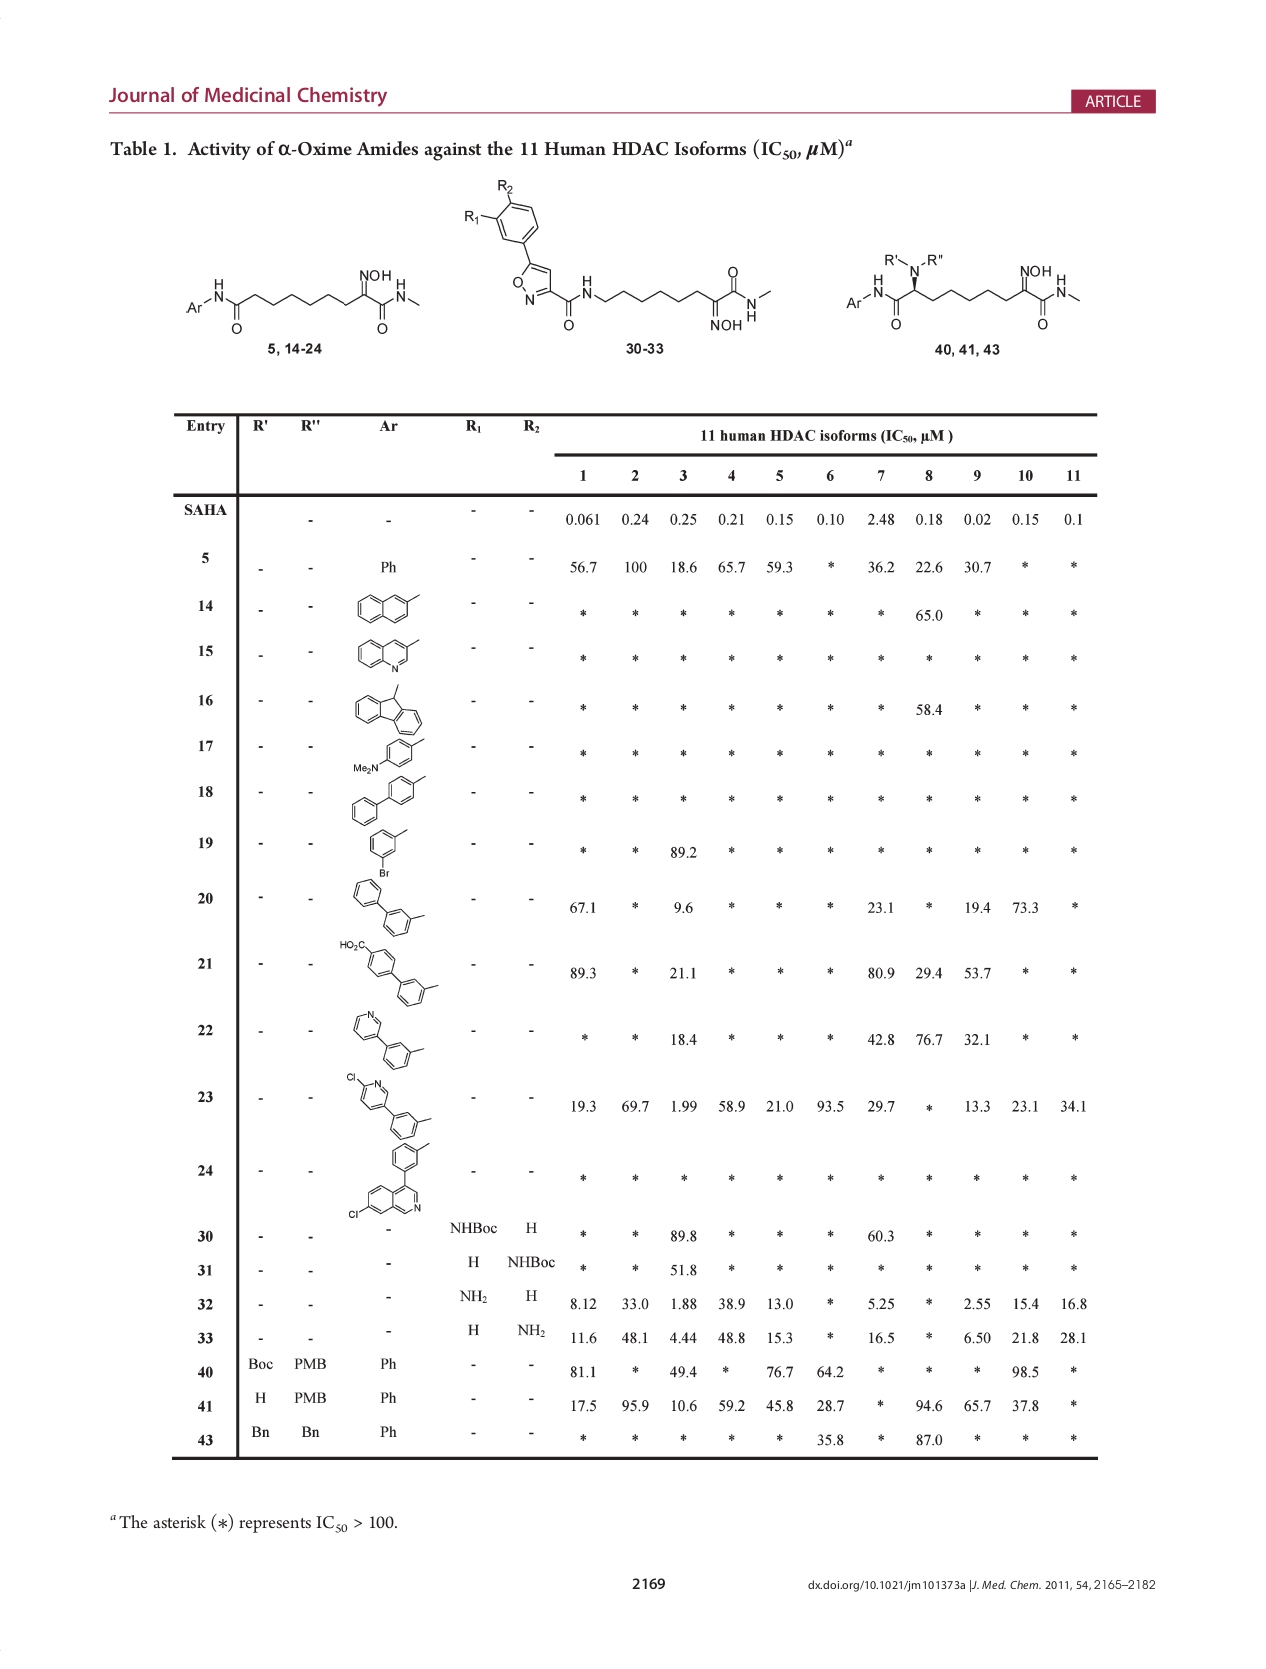exist_molecular: (455, 176, 778, 331), (840, 247, 1084, 336), (182, 257, 420, 336), (339, 1141, 431, 1223), (339, 938, 440, 1008), (343, 1068, 435, 1141), (348, 1005, 426, 1071), (346, 878, 426, 938), (347, 774, 436, 826), (352, 682, 426, 735), (348, 734, 431, 775), (354, 634, 420, 676), (366, 826, 410, 878), (351, 593, 422, 622)
